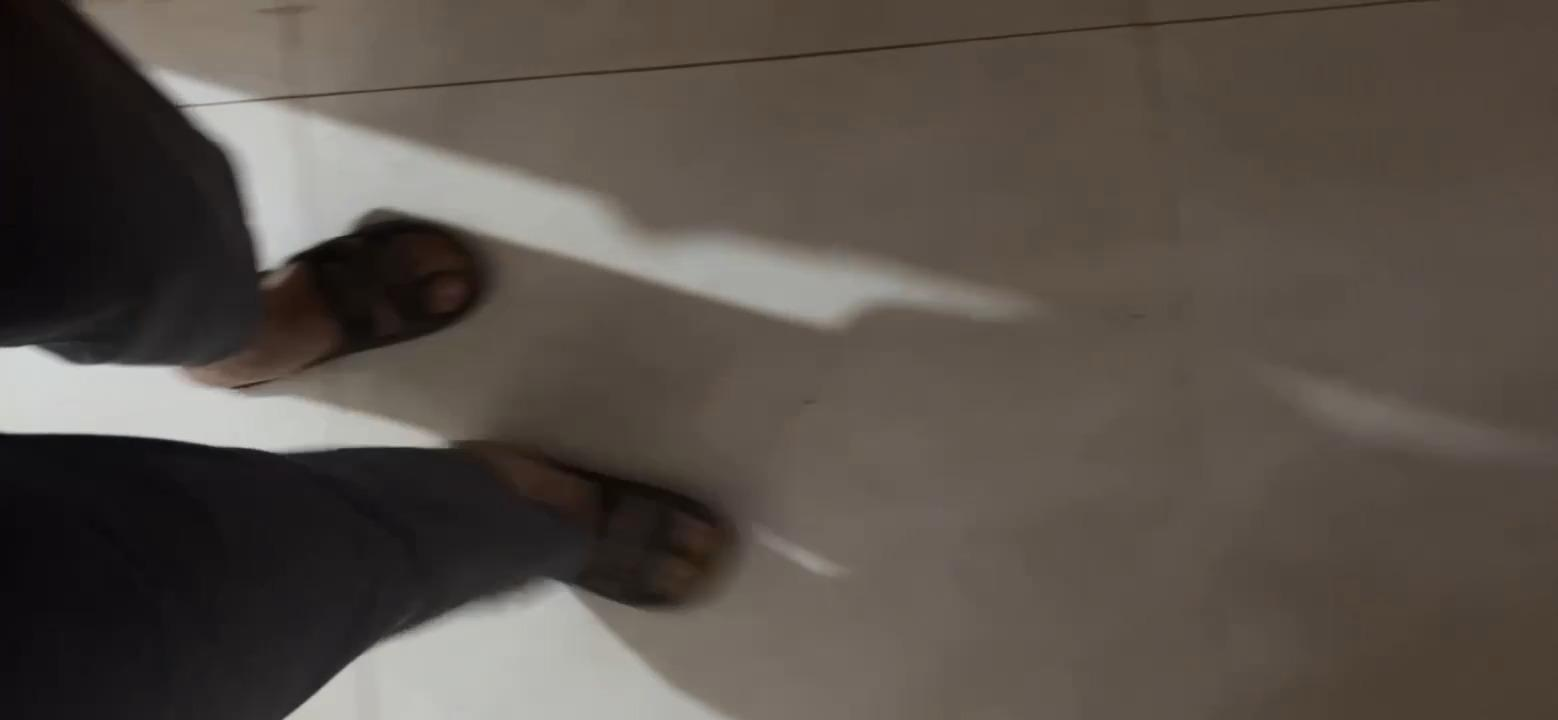no-boot: (437, 419, 750, 616), (201, 199, 497, 386)
